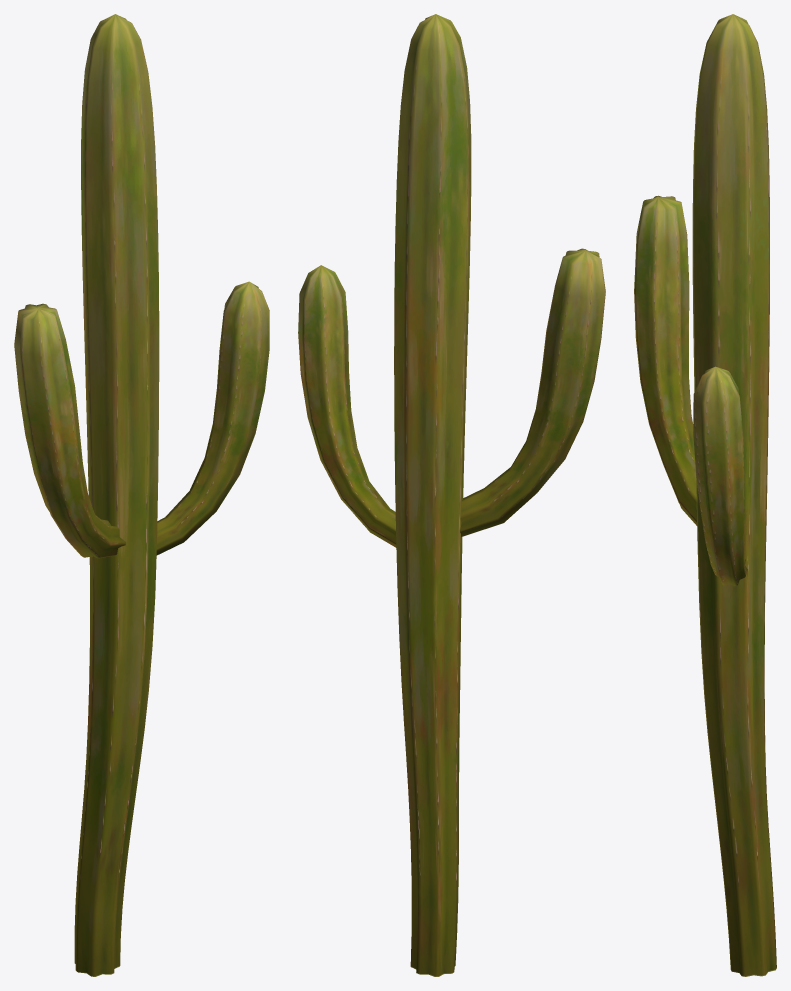
The model's file is P_Cactus02.obj.
3 renders of one model, left to right at view 1: azimuth 30°, elevation 25°; view 2: azimuth 150°, elevation 25°; view 3: azimuth 270°, elevation 25°, orthographic.
Bounding box in the file's own units: 2.33 × 7.73 × 1.04.
